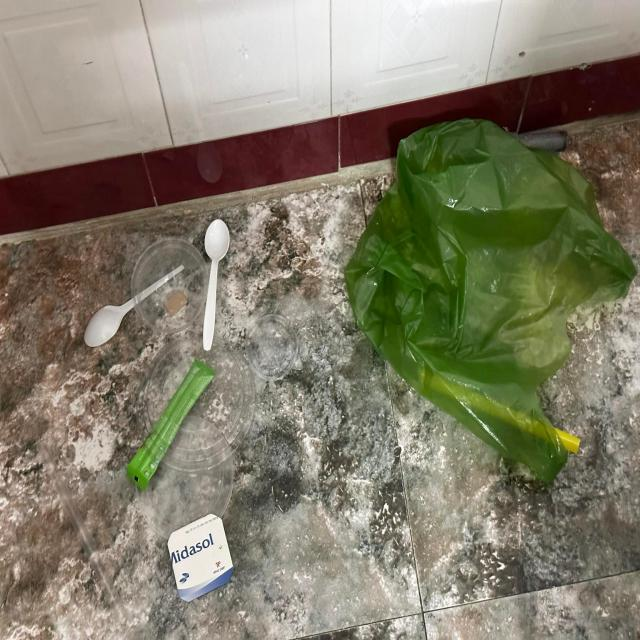bag: (341, 117, 638, 476)
drinking straw: (433, 374, 580, 454)
lid: (146, 340, 257, 473), (136, 417, 234, 536), (133, 237, 208, 335), (246, 312, 297, 382)
packet: (123, 360, 214, 488)
plastic utensil: (84, 265, 184, 347), (202, 218, 230, 352)
